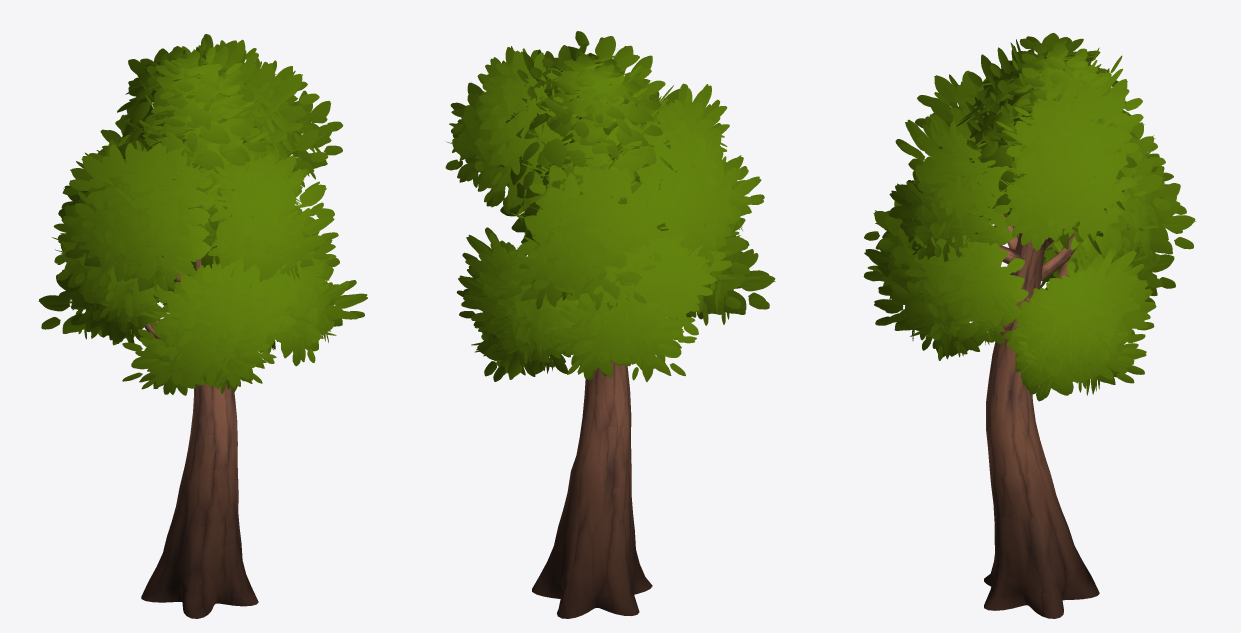
The model's file is commontree_1.glb.
3 views of the same model, side by side, from view 1: azimuth 30°, elevation 25°; view 2: azimuth 150°, elevation 25°; view 3: azimuth 270°, elevation 25° (orthographic). The views are drawn at different scales.
Visible parts, largest first — view 1: CommonTree_1; view 2: CommonTree_1; view 3: CommonTree_1.
Part boxes in pixels (x1,y1,x2,y2): CommonTree_1: [38, 34, 367, 618]; CommonTree_1: [445, 31, 775, 618]; CommonTree_1: [863, 33, 1196, 618].
Bounding box in the file's own units: 4.31 × 7.26 × 4.58.
Materials: 2 (2 with a texture image).
